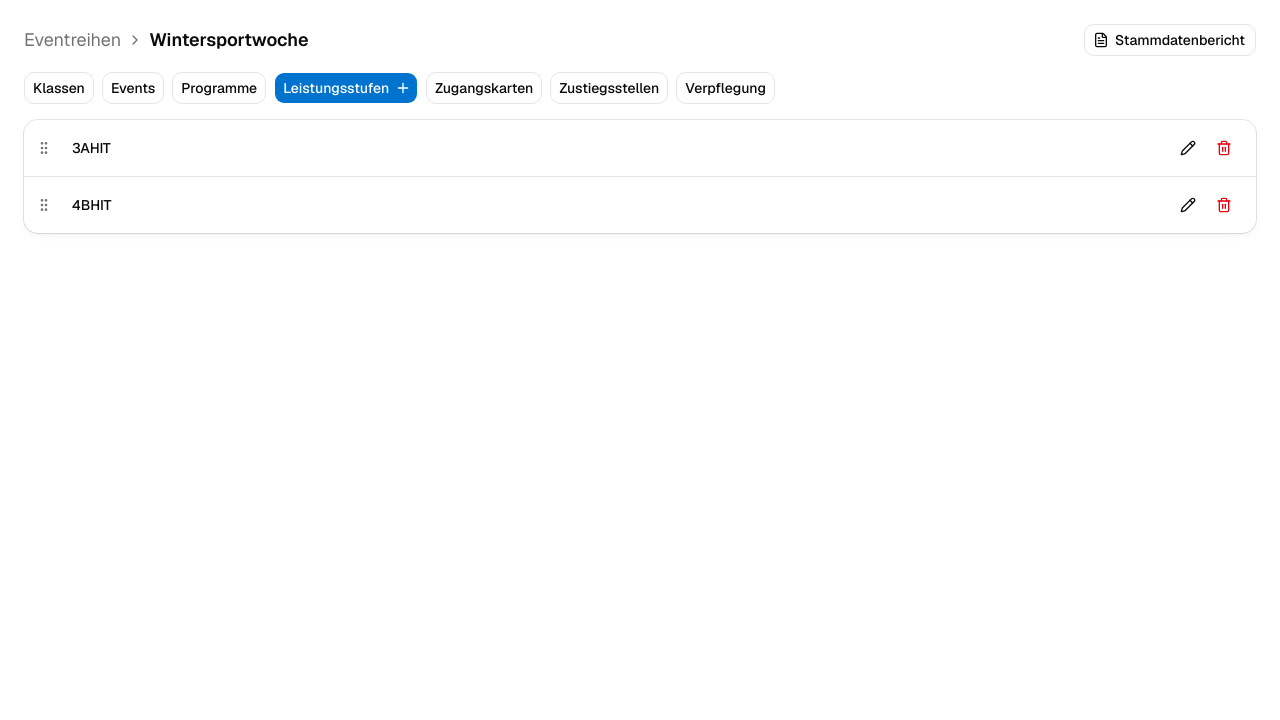
MasterDataView — editing › opens the dialog with the current name already filled in
Click the button named "Leistungsstufe 3AHIT bearbeiten" at [1188, 148], box [1172,132,1204,164]
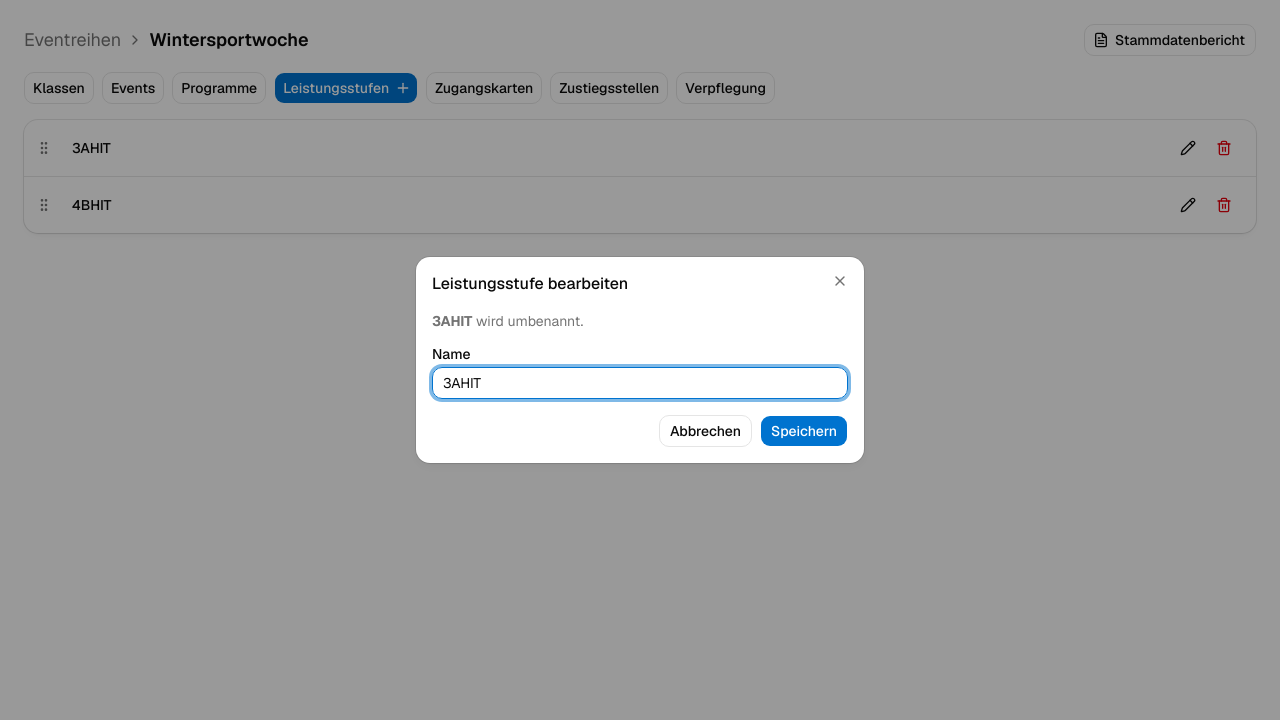
Expected: the field labelled "Name" holds "3AHIT", [432,367,848,399]
